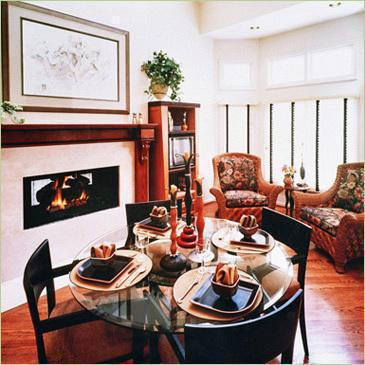Matera: (138, 48, 187, 102)
